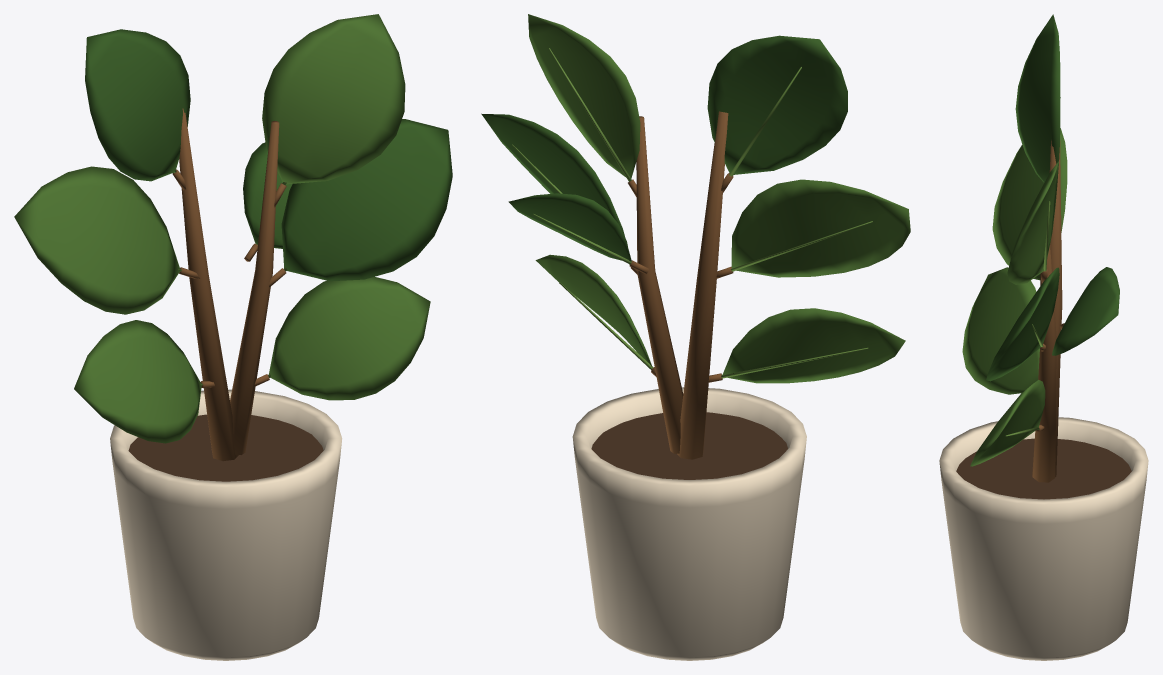
Rendered from rubberTree.glb.
The picture shows the model from 3 angles, left to right: view 1: azimuth 30°, elevation 25°; view 2: azimuth 150°, elevation 25°; view 3: azimuth 270°, elevation 25°; orthographic projection. The views are drawn at different scales.
Visible parts, largest first — view 1: rubberTree_pot, rubberTree_broad_leaf_3, rubberTree_broad_leaf_1, rubberTree_broad_leaf_2, rubberTree_broad_leaf_5, rubberTree_broad_leaf_0, rubberTree_broad_leaf_4, rubberTree_soil, rubberTree_trunk_left, rubberTree_trunk_right, rubberTree_broad_leaf_6; view 2: rubberTree_pot, rubberTree_broad_leaf_0, rubberTree_broad_leaf_2, rubberTree_broad_leaf_4, rubberTree_broad_leaf_1, rubberTree_soil, rubberTree_trunk_left, rubberTree_trunk_right, rubberTree_broad_leaf_3, rubberTree_broad_leaf_6, rubberTree_broad_leaf_5; view 3: rubberTree_pot, rubberTree_soil, rubberTree_broad_leaf_4, rubberTree_broad_leaf_0, rubberTree_broad_leaf_2, rubberTree_broad_leaf_3, rubberTree_broad_leaf_1, rubberTree_broad_leaf_6, rubberTree_trunk_right, rubberTree_broad_leaf_5, rubberTree_trunk_left.
Boxes of the visible parts, x1=… form: rubberTree_pot: x1=110, y1=389, x2=342, y2=660; rubberTree_broad_leaf_3: x1=281, y1=119, x2=452, y2=281; rubberTree_broad_leaf_1: x1=262, y1=14, x2=405, y2=184; rubberTree_broad_leaf_2: x1=14, y1=166, x2=179, y2=314; rubberTree_broad_leaf_5: x1=269, y1=276, x2=430, y2=400; rubberTree_broad_leaf_0: x1=85, y1=29, x2=190, y2=181; rubberTree_broad_leaf_4: x1=74, y1=320, x2=201, y2=443; rubberTree_soil: x1=128, y1=414, x2=323, y2=481; rubberTree_trunk_left: x1=179, y1=108, x2=238, y2=461; rubberTree_trunk_right: x1=230, y1=121, x2=279, y2=454; rubberTree_broad_leaf_6: x1=243, y1=142, x2=292, y2=248; rubberTree_pot: x1=572, y1=387, x2=806, y2=660; rubberTree_broad_leaf_0: x1=707, y1=35, x2=847, y2=174; rubberTree_broad_leaf_2: x1=731, y1=179, x2=910, y2=277; rubberTree_broad_leaf_4: x1=722, y1=308, x2=905, y2=383; rubberTree_broad_leaf_1: x1=528, y1=14, x2=640, y2=179; rubberTree_soil: x1=591, y1=412, x2=787, y2=479; rubberTree_trunk_left: x1=677, y1=111, x2=728, y2=459; rubberTree_trunk_right: x1=636, y1=116, x2=683, y2=453; rubberTree_broad_leaf_3: x1=481, y1=113, x2=631, y2=261; rubberTree_broad_leaf_6: x1=508, y1=193, x2=630, y2=261; rubberTree_broad_leaf_5: x1=535, y1=254, x2=652, y2=367; rubberTree_pot: x1=939, y1=417, x2=1148, y2=660; rubberTree_soil: x1=956, y1=438, x2=1131, y2=499; rubberTree_broad_leaf_4: x1=962, y1=267, x2=1039, y2=394; rubberTree_broad_leaf_0: x1=1015, y1=14, x2=1060, y2=182; rubberTree_broad_leaf_2: x1=992, y1=128, x2=1067, y2=280; rubberTree_broad_leaf_3: x1=986, y1=267, x2=1059, y2=381; rubberTree_broad_leaf_1: x1=1007, y1=161, x2=1058, y2=284; rubberTree_broad_leaf_6: x1=1052, y1=267, x2=1119, y2=355; rubberTree_trunk_right: x1=1032, y1=245, x2=1056, y2=482; rubberTree_broad_leaf_5: x1=970, y1=380, x2=1045, y2=466; rubberTree_trunk_left: x1=1032, y1=140, x2=1062, y2=476.
Size of the model in its own units: 0.96 by 1.32 by 0.45.
